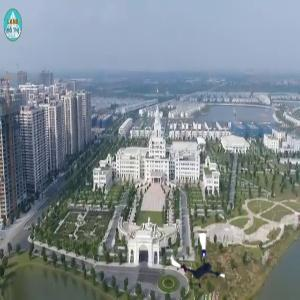drone: (168, 233, 229, 294)
